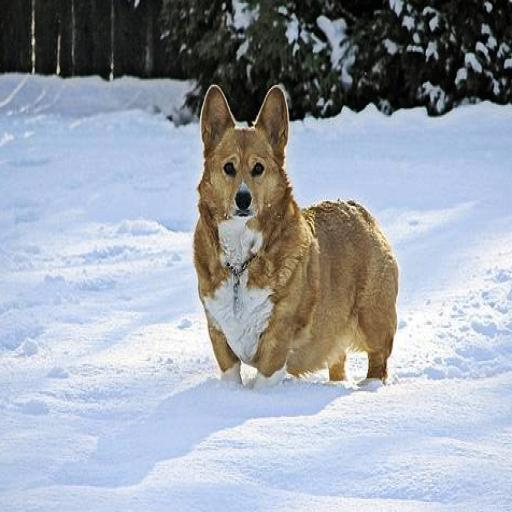dog_face: (198, 79, 289, 224)
